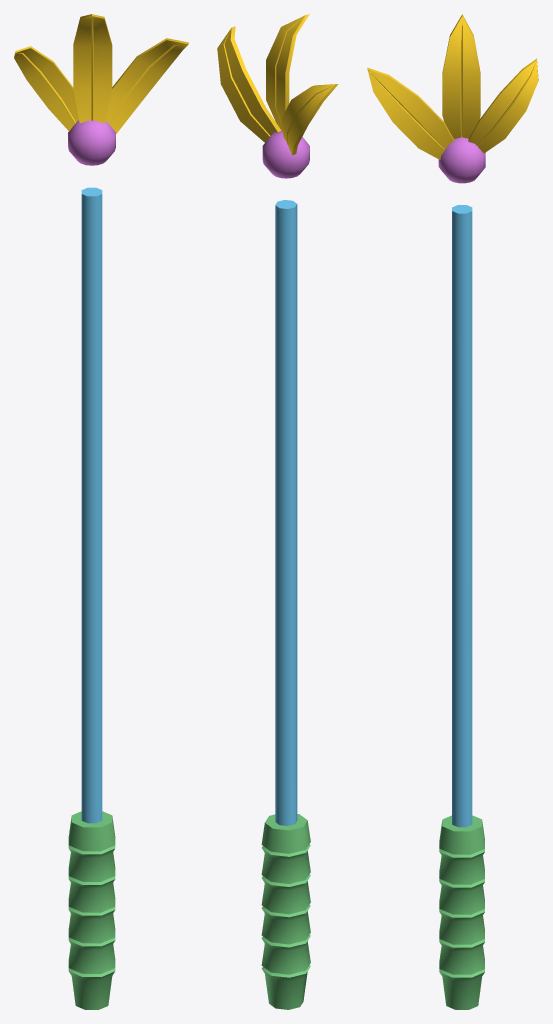
The model's file is PlumeroReskittenAssets.fbx.
3 renders of one model, left to right at view 1: azimuth 90°, elevation 25°; view 2: azimuth 210°, elevation 25°; view 3: azimuth 270°, elevation 25°, orthographic. The views are drawn at different scales.
Parts seen in each view (by area): view 1: Plumero, Plumero.001; view 2: Plumero, Plumero.001; view 3: Plumero, Plumero.001.
Part boxes in pixels (<box>): Plumero: <box>68,187,115,1009</box>; Plumero.001: <box>14,14,188,165</box>; Plumero: <box>261,200,310,1009</box>; Plumero.001: <box>217,14,338,178</box>; Plumero: <box>439,205,484,1009</box>; Plumero.001: <box>367,14,538,183</box>.
Size of the model in its own units: 62.4 by 1085 by 172.
